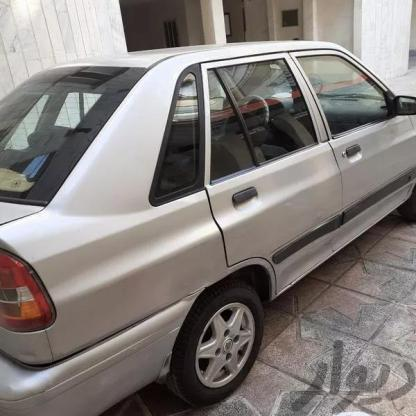Car: (0, 35, 416, 406)
